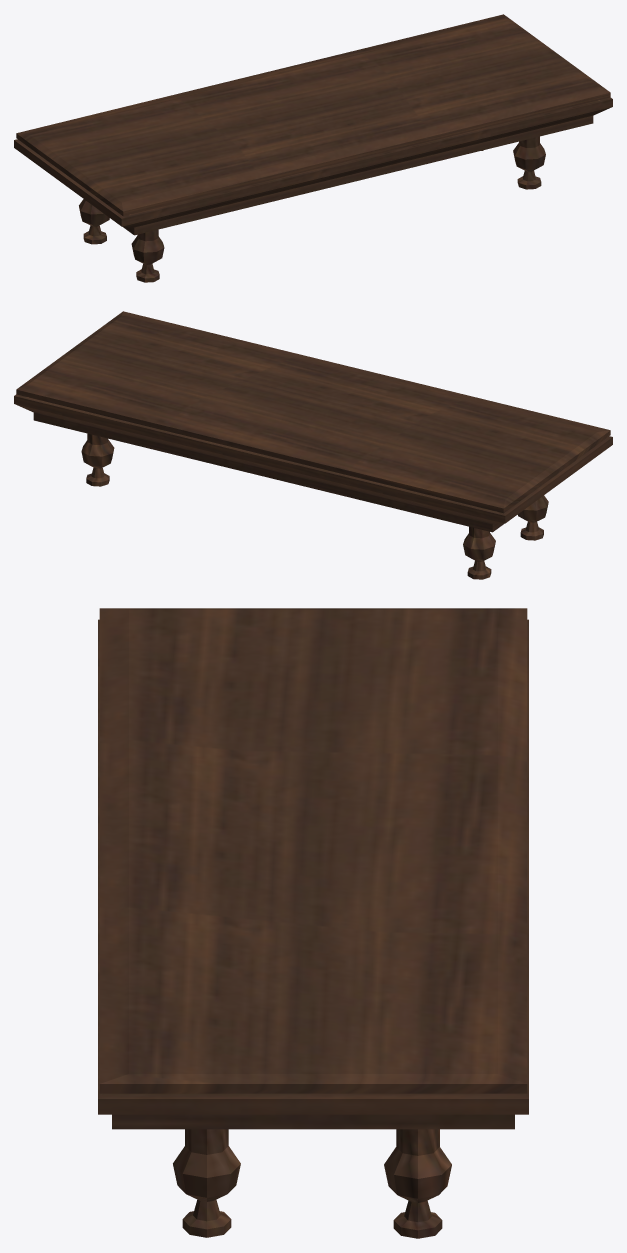
File: KitchenTable.fbx
3 views of the same model, one above another, from view 1: azimuth 30°, elevation 25°; view 2: azimuth 150°, elevation 25°; view 3: azimuth 270°, elevation 25° (orthographic). The views are drawn at different scales.
Visible parts, largest first — view 1: Cube.020; view 2: Cube.020; view 3: Cube.020.
Part boxes in pixels (x1,y1,x2,y2): Cube.020: (14, 14, 612, 282); Cube.020: (14, 311, 612, 579); Cube.020: (98, 608, 528, 1238).
Size of the model in its own units: 574 by 113 by 218.
1 material, 1 textured.
